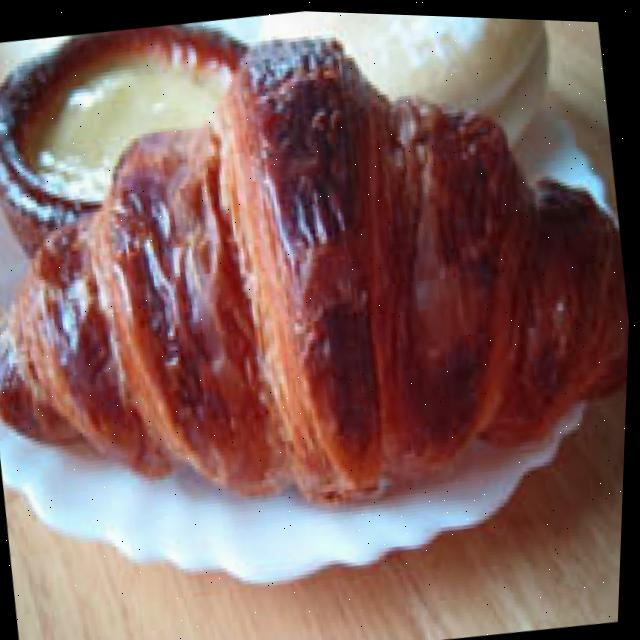面包点心: (0, 0, 640, 574)
